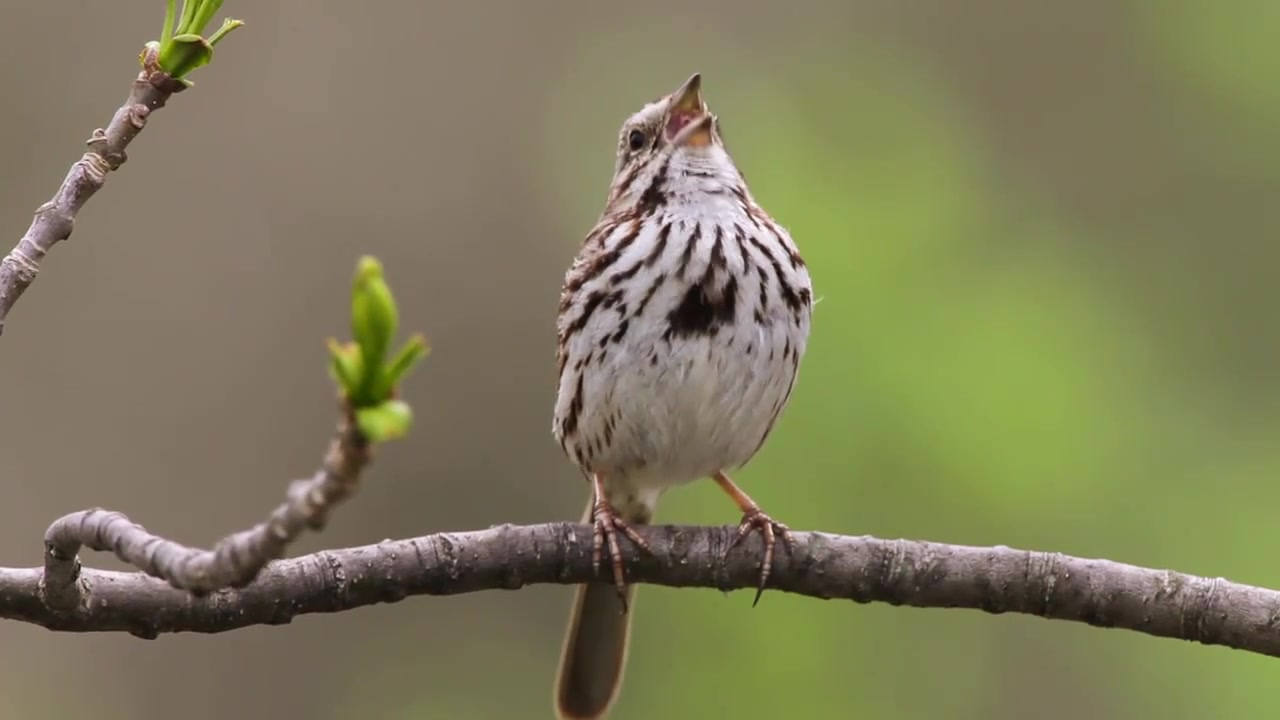bird: (554, 74, 821, 719)
